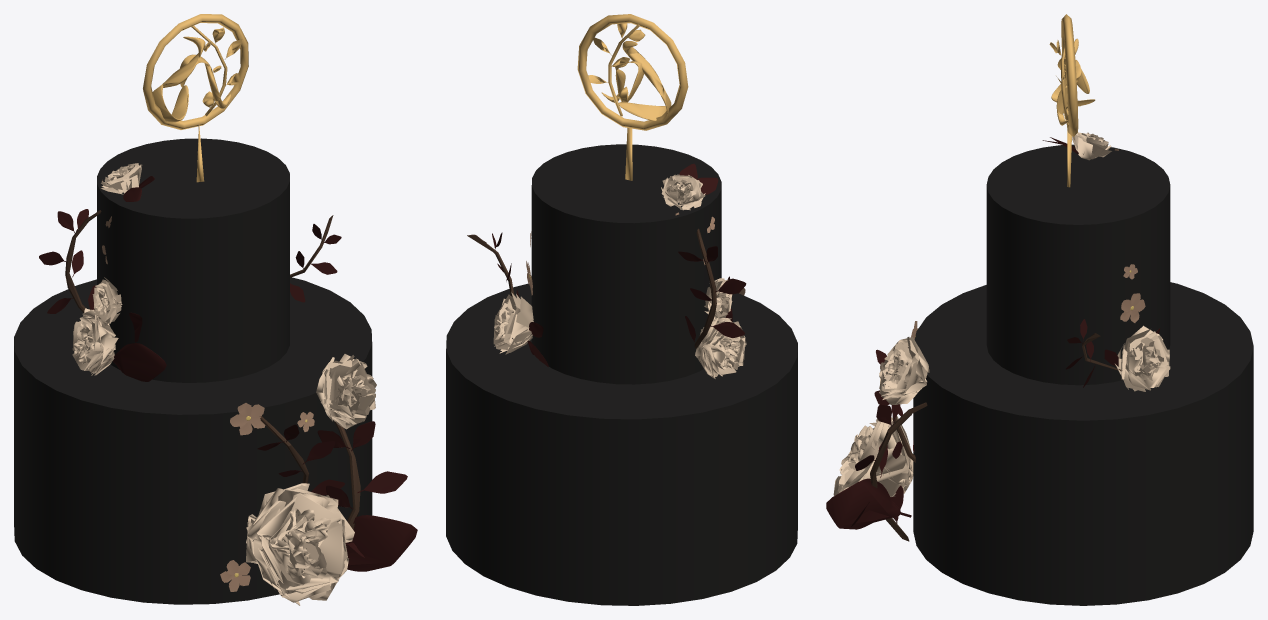
Rendered from 2-tier-black.glb.
3 views of the same model, side by side, from view 1: azimuth 30°, elevation 25°; view 2: azimuth 150°, elevation 25°; view 3: azimuth 270°, elevation 25° (orthographic). The views are drawn at different scales.
Visible parts, largest first — view 1: Cylinder.014, Cylinder.013, grid.025, Cylinder.011, grid.024, Plane.049, Plane.059, grid.026, Plane.056, Plane.058, Plane.052, Plane.045 (+4 smaller); view 2: Cylinder.014, Cylinder.013, Cylinder.011, grid.026, Plane.056, grid.028, grid.014, grid.027, Plane.045; view 3: Cylinder.014, Cylinder.013, grid.025, Cylinder.011, grid.028, Plane.049, grid.024, Plane.059, Plane.045, grid.014, Plane.058.
Part boxes in pixels (left/top/right/bottom): Cylinder.014: left=14, top=277, right=372, bottom=604; Cylinder.013: left=97, top=138, right=289, bottom=382; grid.025: left=246, top=483, right=354, bottom=605; Cylinder.011: left=143, top=14, right=248, bottom=182; grid.024: left=316, top=354, right=376, bottom=429; Plane.049: left=345, top=515, right=417, bottom=571; Plane.059: left=317, top=421, right=407, bottom=557; grid.026: left=72, top=308, right=118, bottom=375; Plane.056: left=39, top=209, right=101, bottom=313; Plane.058: left=257, top=416, right=344, bottom=495; Plane.052: left=113, top=343, right=166, bottom=381; Plane.045: left=290, top=215, right=341, bottom=302; Cylinder.014: left=446, top=283, right=797, bottom=605; Cylinder.013: left=531, top=144, right=721, bottom=384; Cylinder.011: left=577, top=14, right=688, bottom=180; grid.026: left=695, top=317, right=746, bottom=378; Plane.056: left=678, top=228, right=746, bottom=348; grid.028: left=493, top=292, right=533, bottom=354; grid.014: left=661, top=174, right=705, bottom=210; grid.027: left=704, top=278, right=732, bottom=322; Plane.045: left=467, top=232, right=519, bottom=297; Cylinder.014: left=913, top=282, right=1253, bottom=605; Cylinder.013: left=986, top=144, right=1170, bottom=385; grid.025: left=833, top=416, right=913, bottom=496; Cylinder.011: left=1049, top=14, right=1095, bottom=187; grid.028: left=1115, top=325, right=1170, bottom=391; Plane.049: left=826, top=478, right=911, bottom=529; grid.024: left=879, top=337, right=929, bottom=404; Plane.059: left=851, top=402, right=927, bottom=541; Plane.045: left=1066, top=319, right=1122, bottom=387; grid.014: left=1072, top=132, right=1111, bottom=160; Plane.058: left=874, top=349, right=915, bottom=462.
Size of the model in its own units: 3.42 by 5.49 by 4.13.
